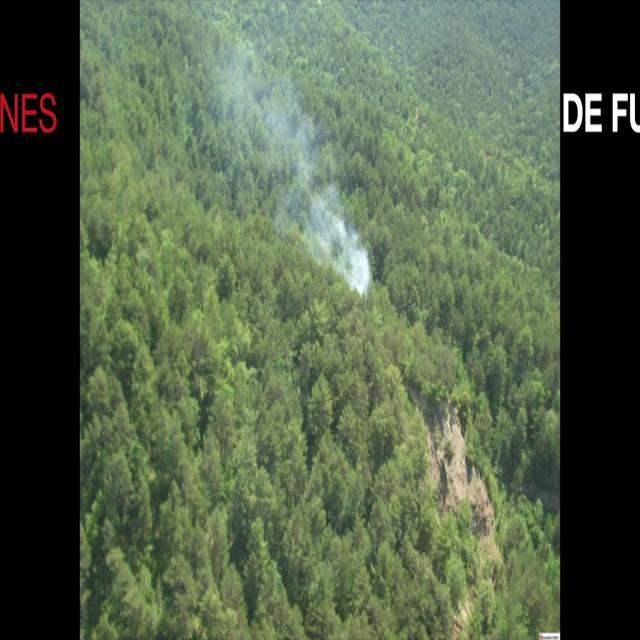Smoke: (255, 54, 373, 296)
